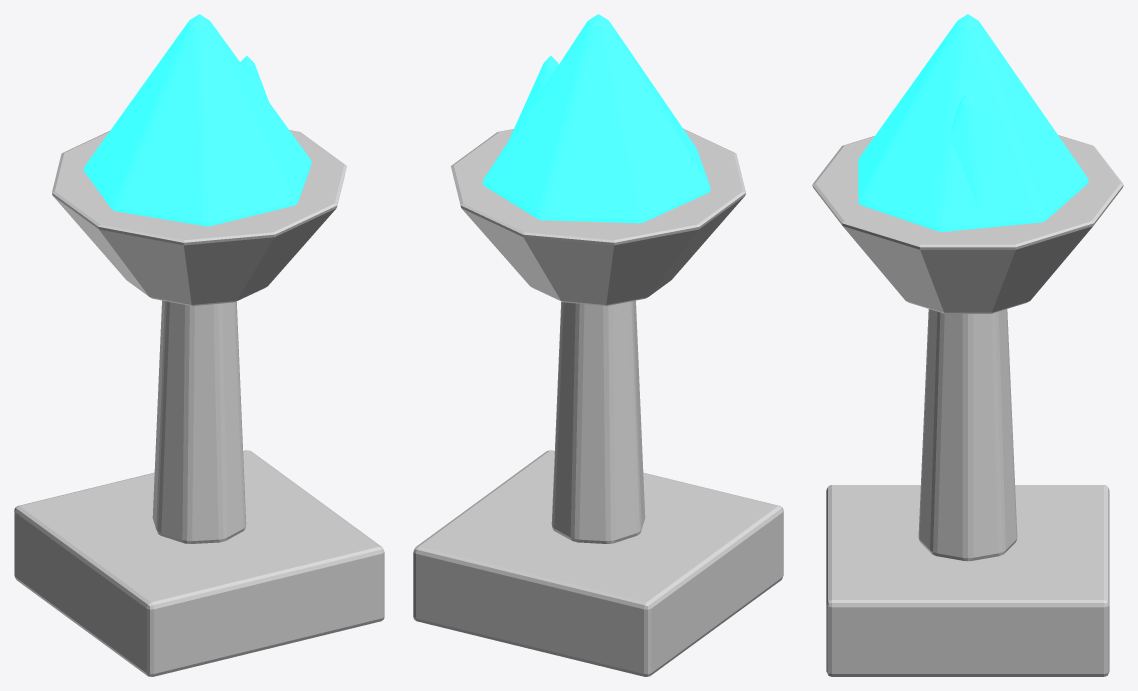
File: egipto_torch.fbx
3 views of the same model, side by side, from view 1: azimuth 30°, elevation 25°; view 2: azimuth 150°, elevation 25°; view 3: azimuth 270°, elevation 25° (orthographic). The views are drawn at different scales.
Parts seen in each view (by area): view 1: egipto_torch; view 2: egipto_torch; view 3: egipto_torch.
Part boxes in pixels (x1,y1,x2,y2): egipto_torch: (14,14,384,676); egipto_torch: (413,14,783,676); egipto_torch: (812,14,1123,676).
Bounding box in the file's own units: 0.5233 × 1.18 × 0.5503.
